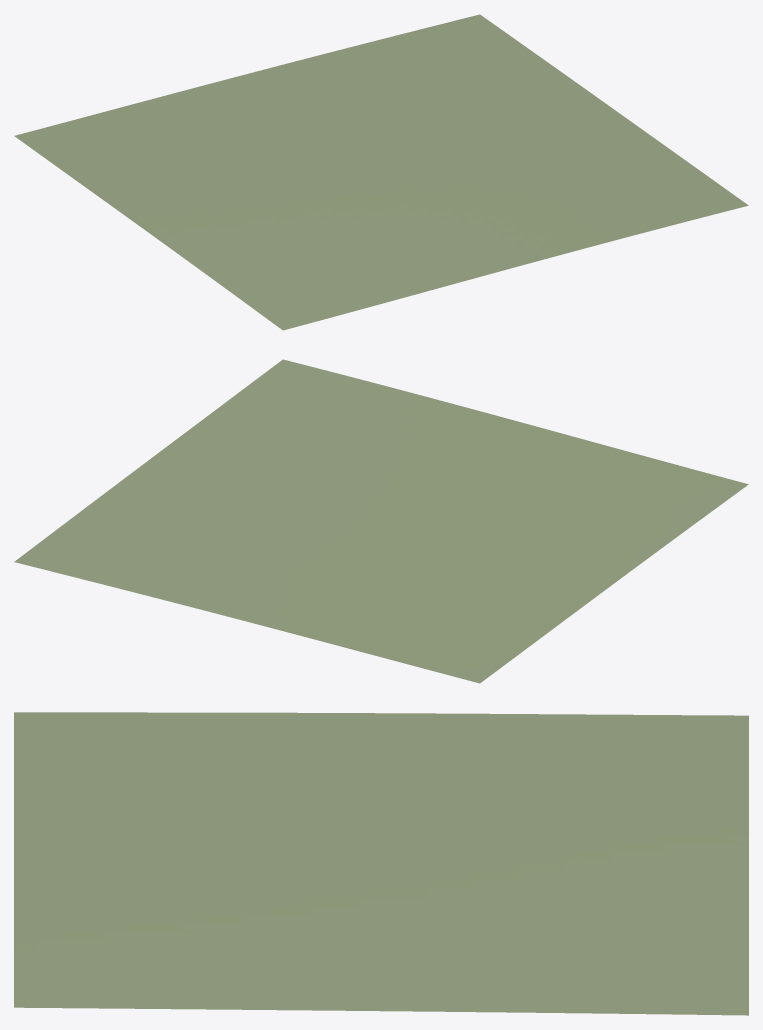
File: desert-20-3.glb
3 views of the same model, one above another, from view 1: azimuth 30°, elevation 25°; view 2: azimuth 150°, elevation 25°; view 3: azimuth 270°, elevation 25° (orthographic). The views are drawn at different scales.
Visible parts, largest first — view 1: desert-20-3; view 2: desert-20-3; view 3: desert-20-3.
Part boxes in pixels (left/top/right/bottom): desert-20-3: left=14, top=14, right=748, bottom=330; desert-20-3: left=14, top=359, right=748, bottom=683; desert-20-3: left=14, top=712, right=748, bottom=1015.
Size of the model in its own units: 512 by 14.2 by 512.
